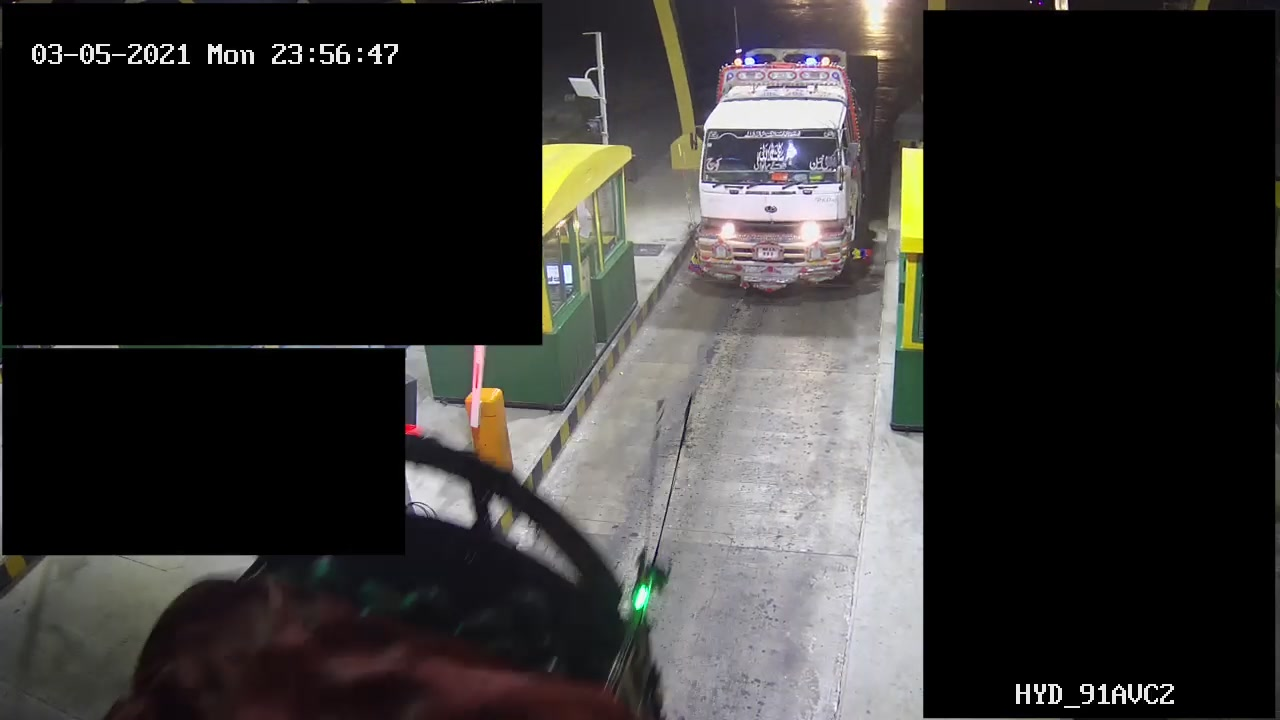F6: (683, 47, 883, 295)
